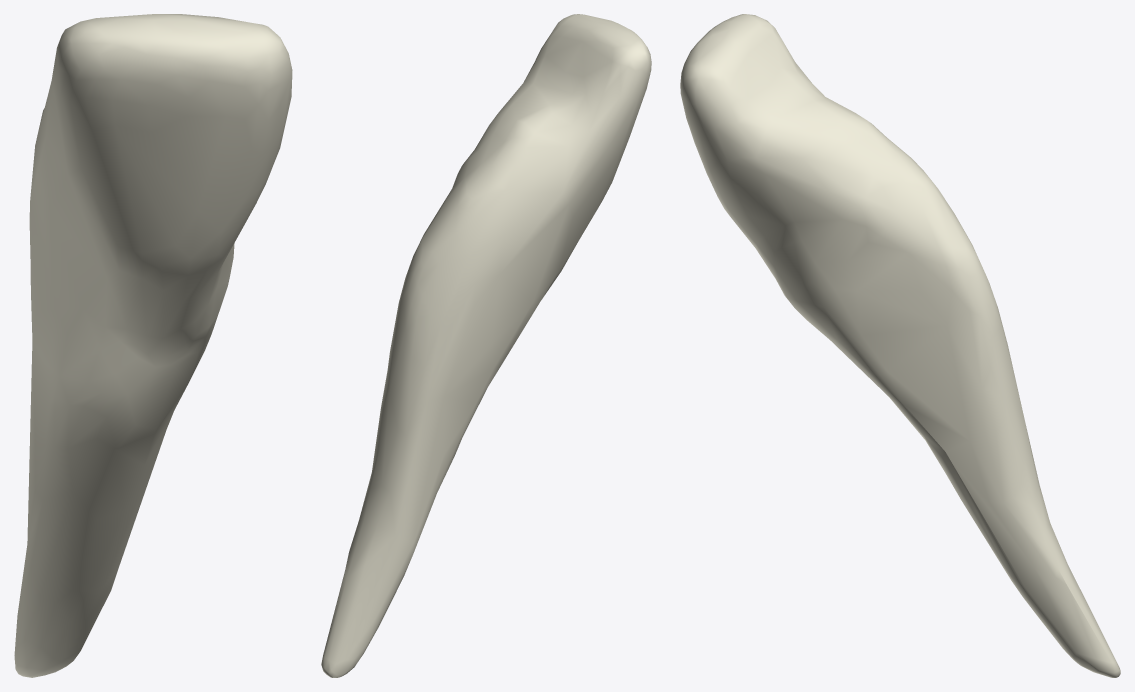
The model's file is Right lower lateral incisor tooth.fbx.
3 views of the same model, side by side, from view 1: azimuth 30°, elevation 25°; view 2: azimuth 150°, elevation 25°; view 3: azimuth 270°, elevation 25° (orthographic). The views are drawn at different scales.
Visible parts, largest first — view 1: Right lower lateral incisor tooth; view 2: Right lower lateral incisor tooth; view 3: Right lower lateral incisor tooth.
Part boxes in pixels (x1,y1,x2,y2): Right lower lateral incisor tooth: [14, 14, 292, 677]; Right lower lateral incisor tooth: [321, 14, 651, 677]; Right lower lateral incisor tooth: [680, 14, 1120, 677].
Bounding box in the file's own units: 1.05 × 3.34 × 2.25.
